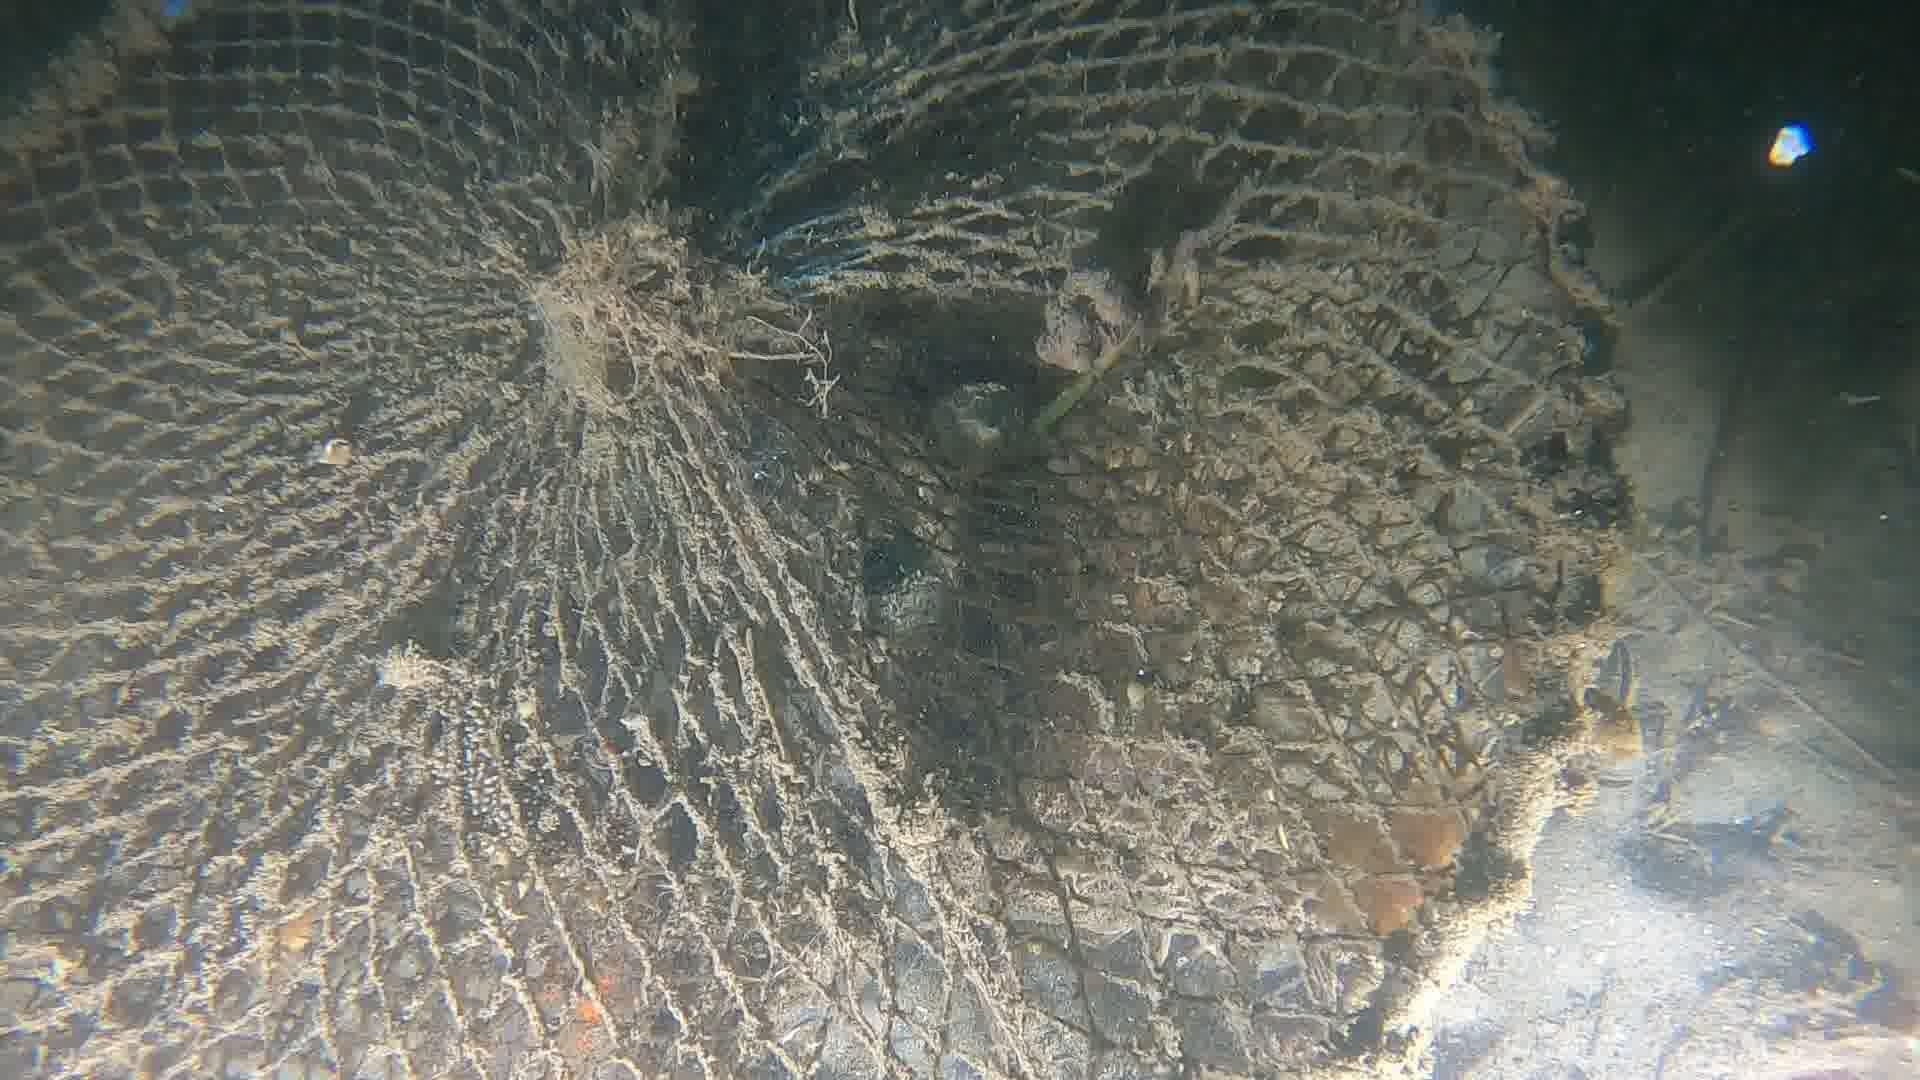circular fish trap: (0, 0, 1631, 1080)
